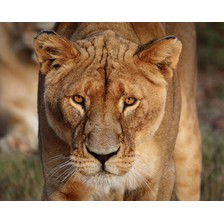lion: (33, 22, 202, 201)
